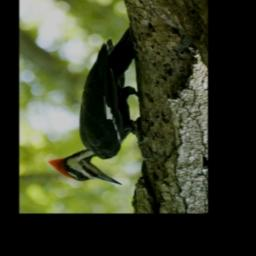Woodpecker: (47, 27, 142, 185)
